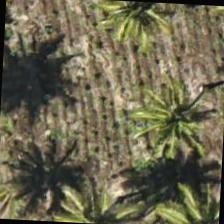Kelapa_Sawit: (132, 69, 223, 165), (87, 0, 180, 50), (152, 175, 221, 223)
